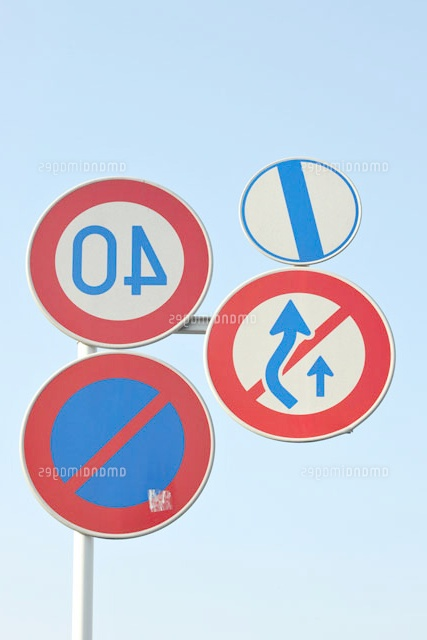Prohibition_sign: (11, 332, 237, 570), (203, 268, 417, 442)
